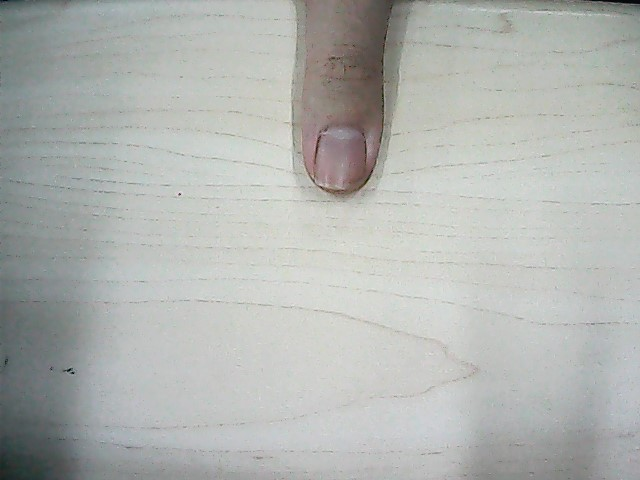nail: (313, 127, 366, 190)
